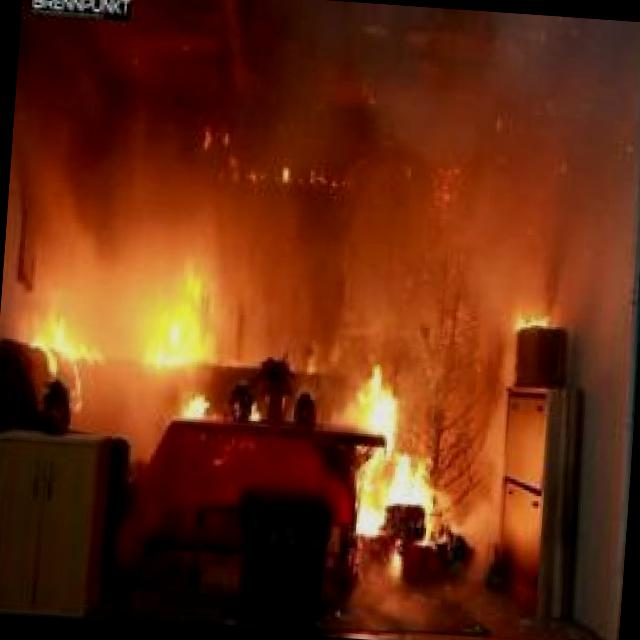fire: (9, 220, 472, 540)
